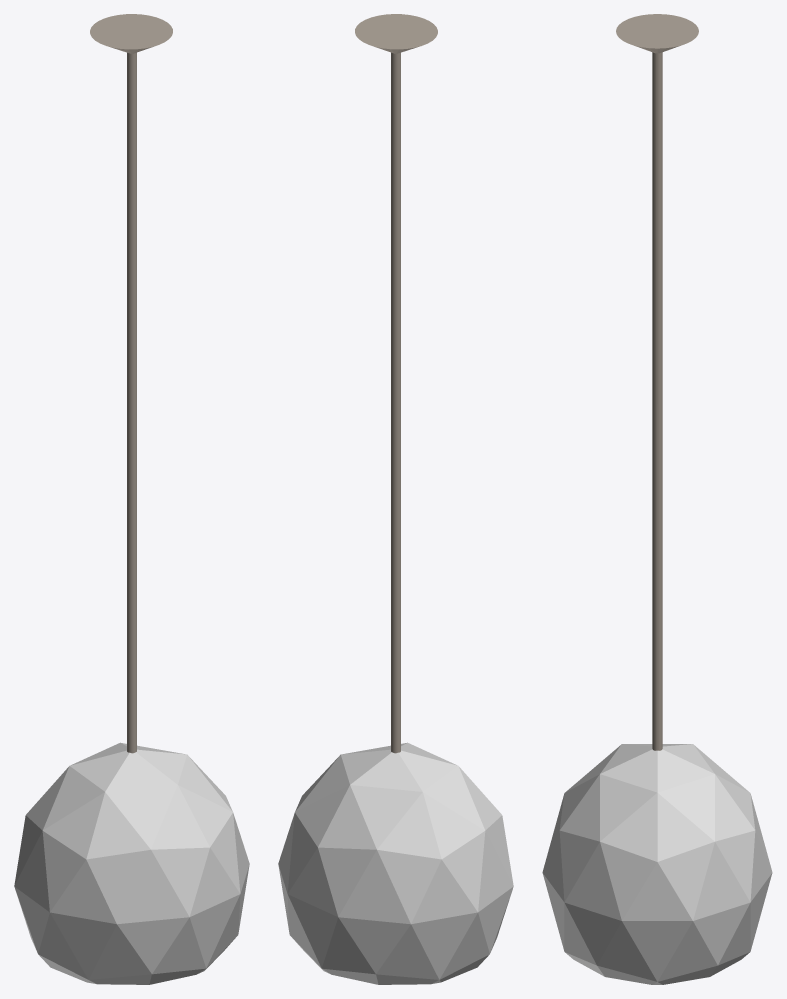
Rendered from ceiling_lamp.fbx.
3 views of the same model, side by side, from view 1: azimuth 30°, elevation 25°; view 2: azimuth 150°, elevation 25°; view 3: azimuth 270°, elevation 25° (orthographic).
Parts seen in each view (by area): view 1: valaisin, johto, Cone; view 2: valaisin, johto, Cone; view 3: valaisin, johto, Cone.
Part boxes in pixels (box(x1,y1,x2,y2)): valaisin: box(14, 742, 249, 984); johto: box(127, 52, 136, 753); Cone: box(90, 14, 172, 53); valaisin: box(278, 742, 513, 984); johto: box(391, 52, 400, 753); Cone: box(355, 14, 437, 53); valaisin: box(542, 744, 772, 984); johto: box(652, 52, 662, 750); Cone: box(616, 14, 698, 53).
Size of the model in its own units: 24 by 105 by 24.
